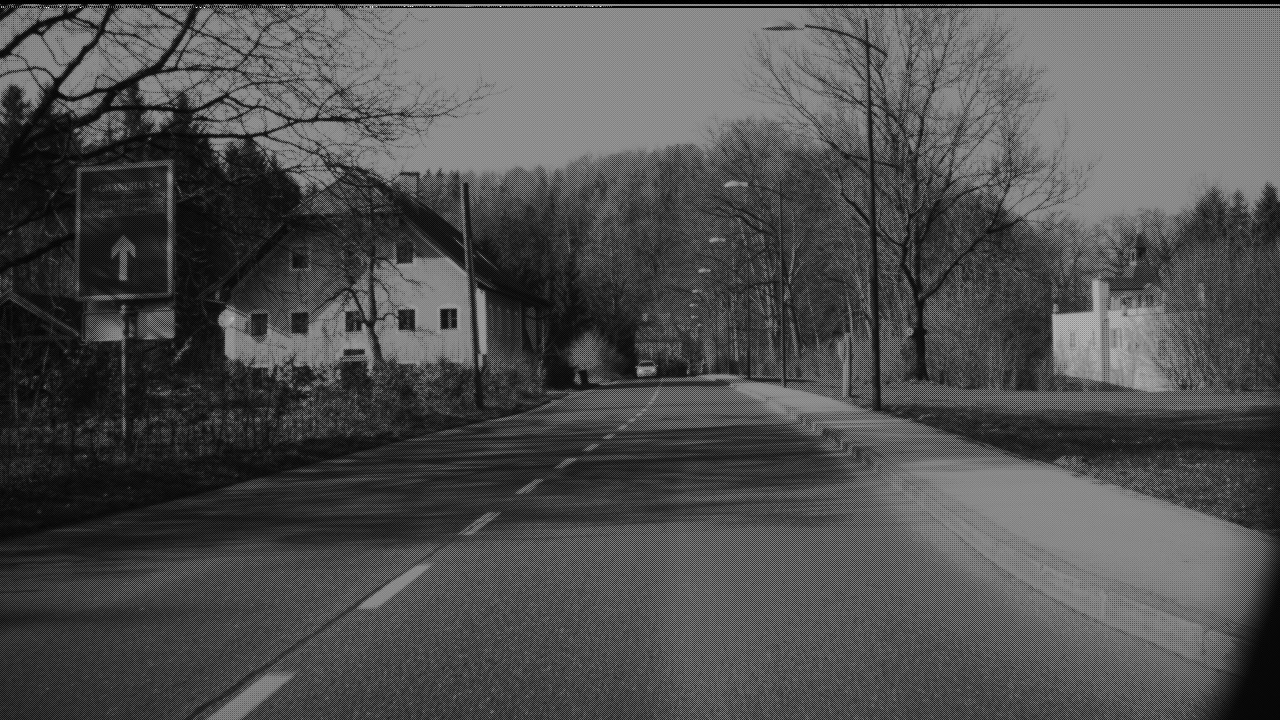pole: (865, 39, 879, 401), (461, 173, 482, 399), (778, 188, 787, 379)
